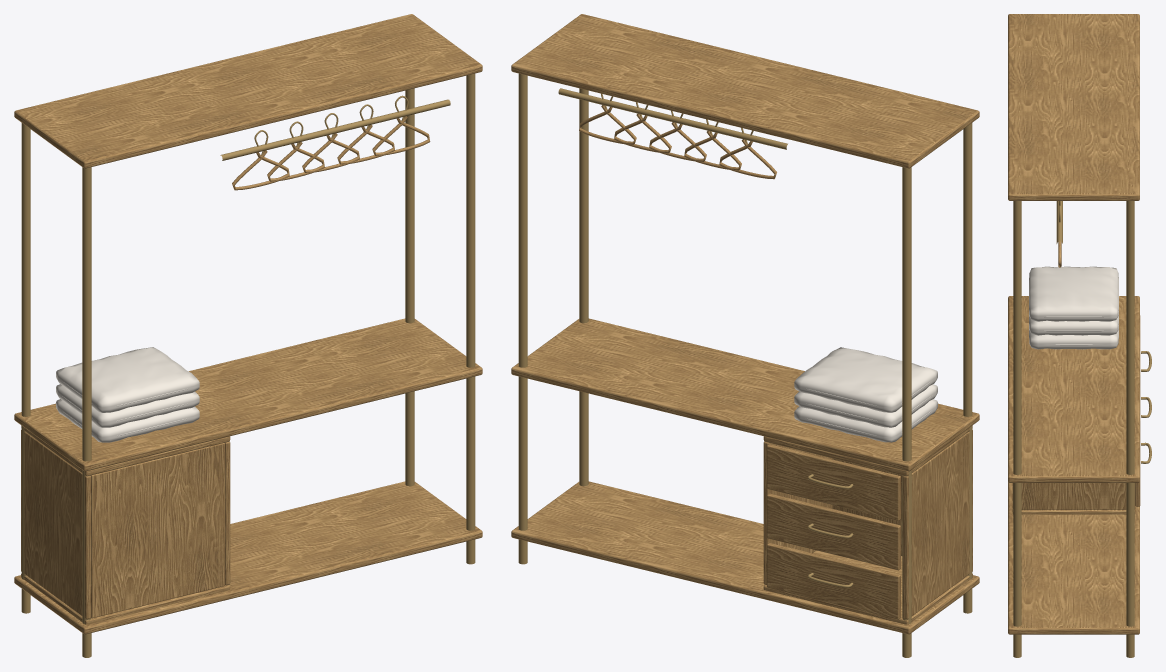
File: residential-dressing-rack.glb
The picture shows the model from 3 angles, left to right: view 1: azimuth 30°, elevation 25°; view 2: azimuth 150°, elevation 25°; view 3: azimuth 270°, elevation 25°; orthographic projection. The views are drawn at different scales.
Visible parts, largest first — view 1: oak_surfaces, bronze_surfaces, ivory_surfaces; view 2: oak_surfaces, bronze_surfaces, ivory_surfaces; view 3: oak_surfaces, bronze_surfaces, ivory_surfaces.
Boxes of the visible parts, x1=… form: oak_surfaces: x1=14, y1=14, x2=482, y2=634; bronze_surfaces: x1=21, y1=73, x2=475, y2=657; ivory_surfaces: x1=56, y1=347, x2=199, y2=442; oak_surfaces: x1=511, y1=14, x2=979, y2=634; bronze_surfaces: x1=518, y1=73, x2=972, y2=657; ivory_surfaces: x1=794, y1=347, x2=937, y2=442; oak_surfaces: x1=1008, y1=14, x2=1140, y2=634; bronze_surfaces: x1=1013, y1=201, x2=1151, y2=657; ivory_surfaces: x1=1029, y1=266, x2=1118, y2=349.
Bounding box in the file's own units: 1.82 × 2.18 × 0.6107.
3 materials, 1 textured.
